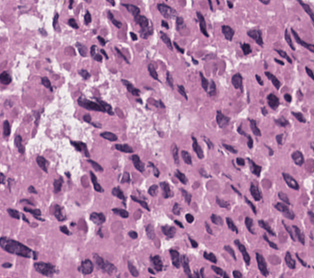nucleus: (78, 97, 104, 111), (196, 12, 208, 36), (264, 71, 280, 89), (121, 79, 139, 95), (157, 3, 176, 18), (89, 171, 103, 191), (191, 135, 203, 158), (96, 98, 113, 114), (71, 141, 89, 156), (23, 207, 43, 220), (131, 196, 149, 210), (258, 220, 274, 235), (122, 3, 139, 17), (247, 30, 262, 45), (107, 11, 121, 27), (114, 47, 128, 63), (134, 15, 149, 29), (216, 111, 229, 127), (131, 155, 144, 171), (248, 159, 261, 175), (160, 32, 172, 49), (250, 182, 261, 200), (221, 25, 234, 40), (244, 197, 256, 213), (231, 73, 242, 90), (263, 235, 277, 248), (267, 93, 279, 108), (160, 182, 172, 197), (53, 205, 65, 220), (249, 119, 260, 135), (140, 23, 152, 37), (88, 159, 102, 171), (161, 225, 175, 237), (36, 156, 47, 171), (226, 217, 237, 232), (199, 72, 208, 90), (14, 135, 23, 153), (148, 64, 158, 80), (112, 187, 124, 200), (90, 212, 104, 223), (149, 162, 159, 177), (100, 131, 116, 140), (112, 208, 128, 217), (245, 217, 254, 233), (175, 170, 186, 183), (216, 197, 229, 208), (171, 143, 178, 163), (181, 150, 191, 164), (115, 144, 132, 152), (202, 136, 213, 148), (0, 71, 10, 84), (41, 77, 51, 90), (223, 143, 236, 153), (7, 208, 20, 218), (53, 178, 62, 192), (181, 189, 190, 203), (207, 80, 215, 95), (210, 214, 222, 224), (146, 224, 154, 239), (76, 43, 85, 56), (178, 85, 187, 98), (3, 120, 10, 136), (176, 17, 184, 30), (275, 118, 288, 126), (166, 71, 172, 88), (173, 42, 183, 52), (241, 43, 250, 54), (148, 185, 157, 196), (68, 18, 77, 28), (79, 69, 89, 78), (231, 185, 240, 195), (255, 74, 263, 85), (172, 203, 180, 214), (121, 172, 129, 182), (189, 237, 197, 247), (153, 100, 164, 107), (205, 222, 212, 233), (84, 11, 90, 23), (97, 36, 105, 45), (100, 49, 108, 58), (185, 213, 193, 222), (60, 226, 69, 234), (53, 13, 58, 27), (83, 114, 91, 122), (236, 157, 244, 165), (128, 231, 137, 238), (276, 134, 282, 144), (247, 135, 252, 147), (21, 199, 33, 204), (161, 20, 168, 28), (28, 186, 36, 193), (174, 220, 182, 227), (90, 45, 95, 56), (274, 58, 283, 64), (94, 54, 101, 61), (130, 32, 136, 40), (0, 173, 4, 183), (208, 0, 212, 9), (260, 0, 269, 4), (227, 1, 232, 8), (261, 107, 266, 114), (23, 215, 28, 222), (69, 0, 73, 8), (192, 58, 197, 64)
